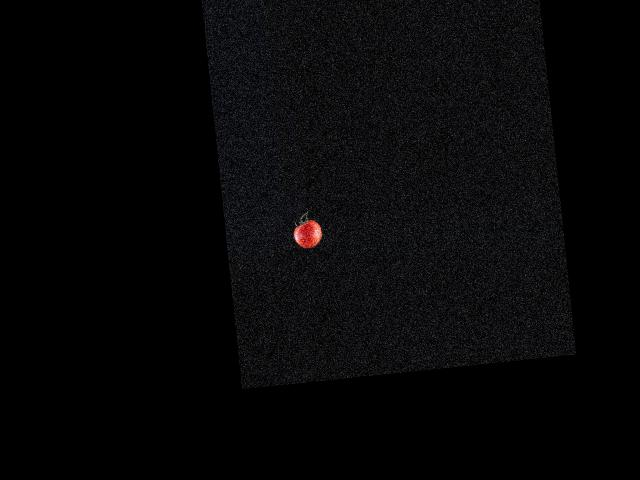tomato: (292, 218, 323, 249)
